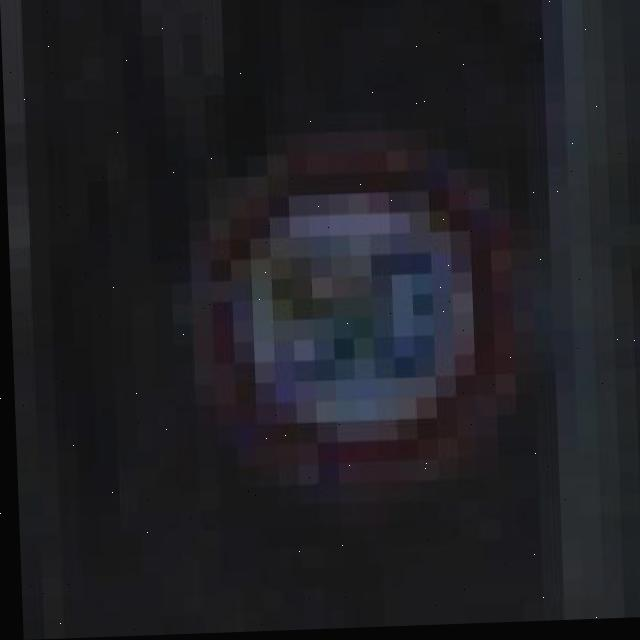Speed limit 50: (171, 115, 536, 507)
